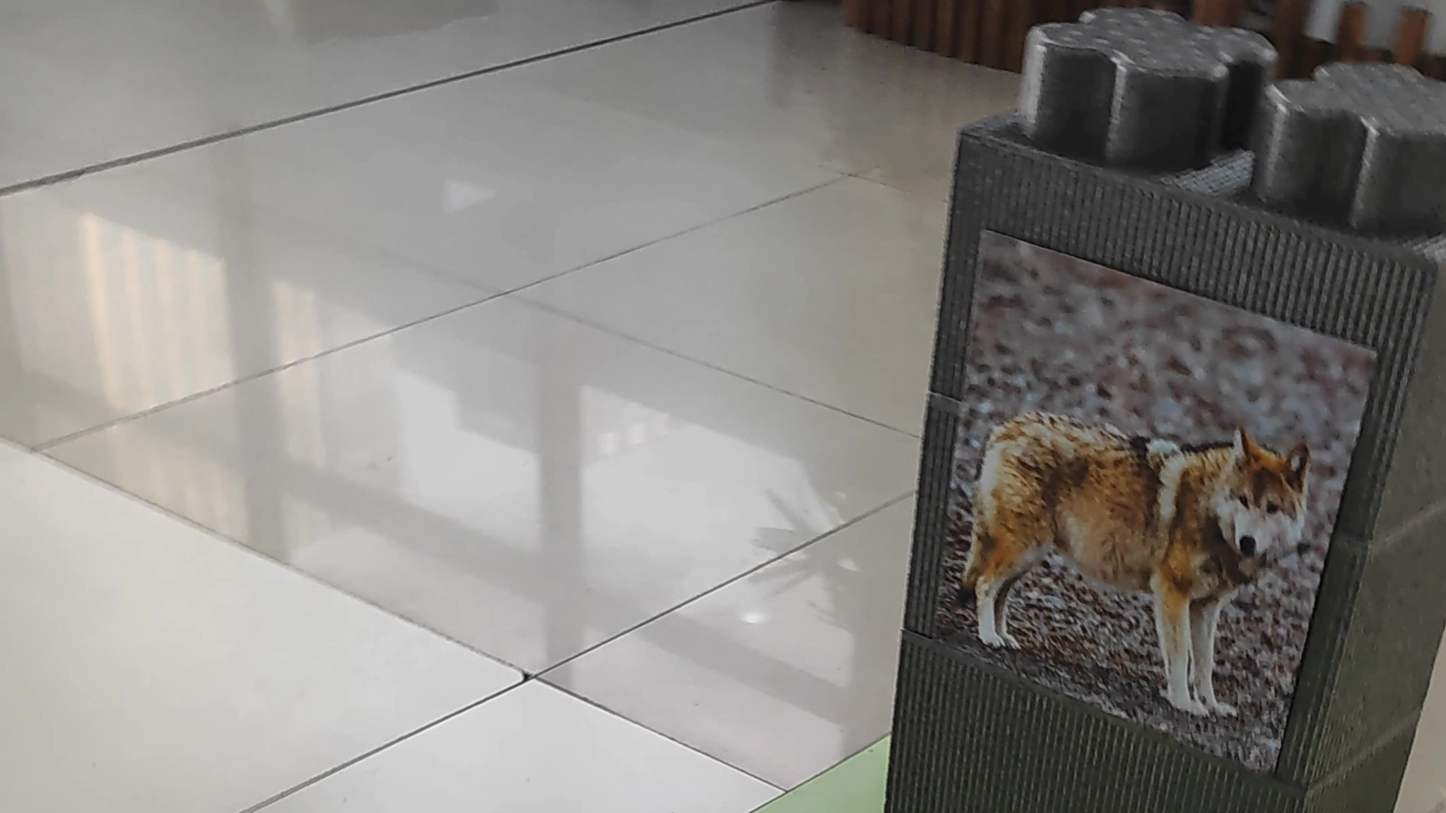wolf: (941, 344, 1327, 725)
